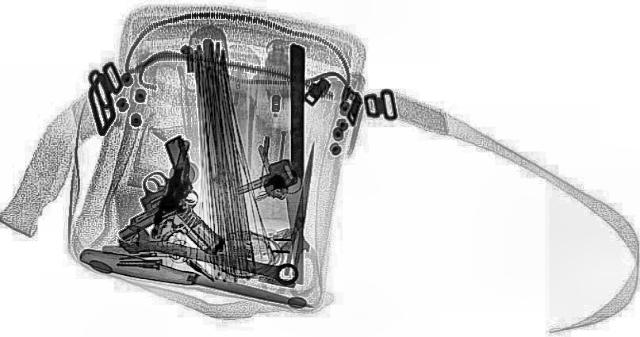Gun: (40, 135, 262, 239), (134, 140, 262, 254)
Knife: (70, 244, 320, 316), (284, 142, 320, 282), (289, 44, 305, 282)
Wrench: (109, 230, 307, 286)
